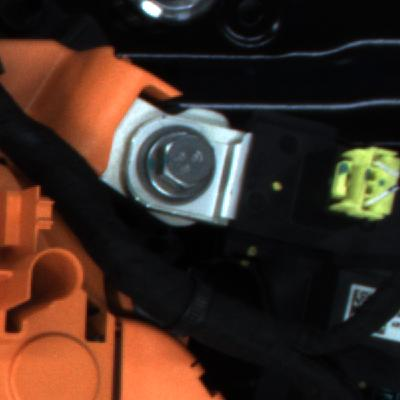nut_b: (135, 126, 228, 207)
